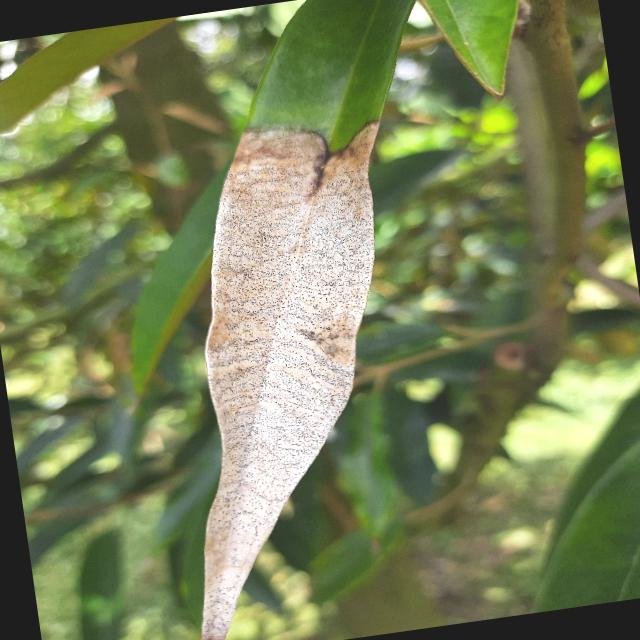Leaf Blight: (102, 0, 511, 639)
